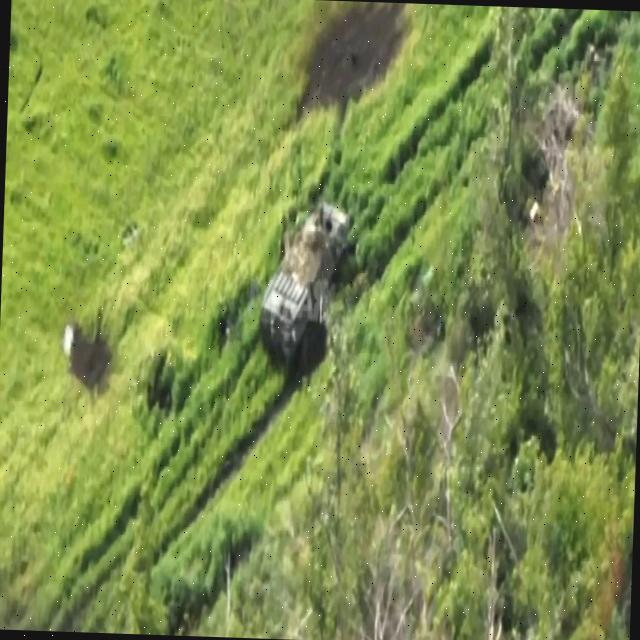APC: (256, 195, 355, 363)
